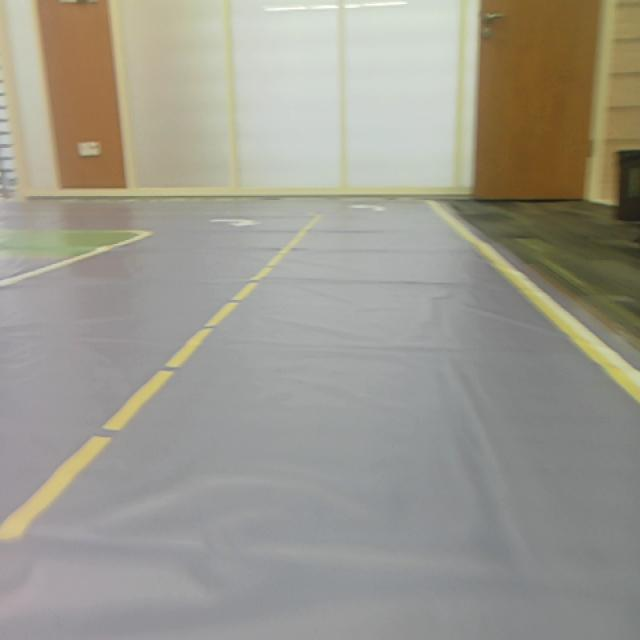left_lane: (0, 228, 306, 535)
right_lane: (446, 222, 640, 404)
